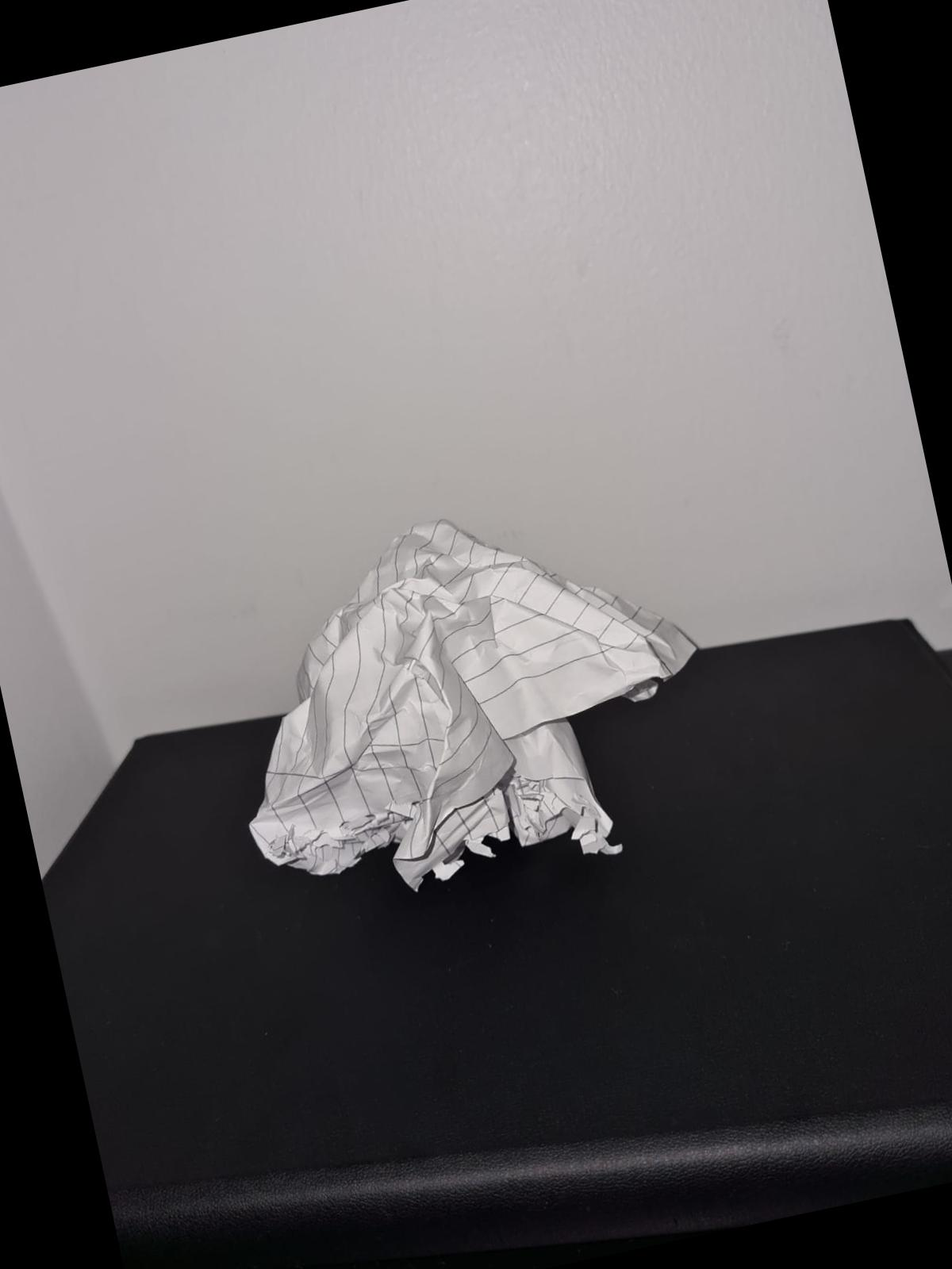Kertas: (247, 536, 724, 896)
